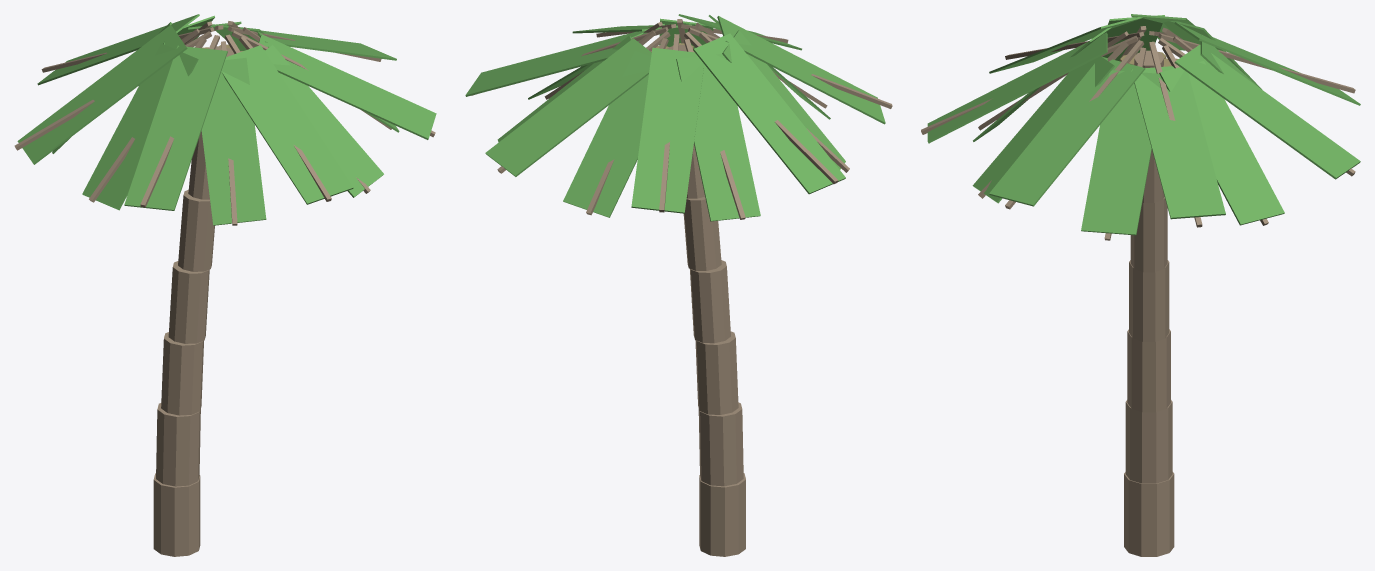
File: tree_coconut_palm.glb
3 renders of one model, left to right at view 1: azimuth 30°, elevation 25°; view 2: azimuth 150°, elevation 25°; view 3: azimuth 270°, elevation 25°, orthographic. The views are drawn at different scales.
Parts seen in each view (by area): view 1: Leaf_Blade_12, Leaf_Blade_0, Leaf_Blade_13, Leaf_Blade_10, Leaf_Blade_2, Leaf_Blade_11, Leaf_Blade_1, Trunk_Seg_0, Trunk_Seg_1, Trunk_Seg_2, Trunk_Seg_3, Trunk_Seg_4 (+6 smaller); view 2: Leaf_Blade_8, Leaf_Blade_10, Leaf_Blade_6, Leaf_Blade_9, Leaf_Blade_7, Trunk_Seg_0, Leaf_Blade_12, Trunk_Seg_1, Leaf_Blade_4, Trunk_Seg_2, Trunk_Seg_3, Trunk_Seg_4 (+6 smaller); view 3: Leaf_Blade_4, Leaf_Blade_3, Leaf_Blade_2, Leaf_Blade_5, Leaf_Blade_6, Trunk_Seg_0, Leaf_Blade_0, Trunk_Seg_1, Trunk_Seg_2, Leaf_Blade_1, Trunk_Seg_3, Trunk_Seg_4 (+9 smaller).
Part boxes in pixels (left/top/right/bottom): Leaf_Blade_12: left=124, top=45, right=227, bottom=210; Leaf_Blade_0: left=221, top=45, right=353, bottom=204; Leaf_Blade_13: left=196, top=57, right=266, bottom=225; Leaf_Blade_10: left=17, top=25, right=187, bottom=164; Leaf_Blade_2: left=258, top=34, right=436, bottom=139; Leaf_Blade_11: left=82, top=43, right=198, bottom=210; Leaf_Blade_1: left=265, top=45, right=383, bottom=197; Trunk_Seg_0: left=153, top=473, right=200, bottom=556; Trunk_Seg_1: left=156, top=403, right=200, bottom=486; Trunk_Seg_2: left=161, top=332, right=203, bottom=415; Trunk_Seg_3: left=168, top=261, right=209, bottom=343; Trunk_Seg_4: left=178, top=190, right=214, bottom=271; Leaf_Blade_8: left=631, top=47, right=704, bottom=213; Leaf_Blade_10: left=693, top=33, right=845, bottom=194; Leaf_Blade_6: left=485, top=38, right=651, bottom=176; Leaf_Blade_9: left=676, top=54, right=760, bottom=221; Leaf_Blade_7: left=563, top=51, right=651, bottom=217; Trunk_Seg_0: left=699, top=473, right=745, bottom=556; Leaf_Blade_12: left=717, top=16, right=885, bottom=124; Trunk_Seg_1: left=698, top=402, right=743, bottom=486; Leaf_Blade_4: left=465, top=28, right=649, bottom=96; Trunk_Seg_2: left=695, top=331, right=738, bottom=414; Trunk_Seg_3: left=690, top=260, right=730, bottom=343; Trunk_Seg_4: left=683, top=197, right=721, bottom=270; Leaf_Blade_4: left=1131, top=66, right=1225, bottom=219; Leaf_Blade_3: left=1081, top=70, right=1163, bottom=235; Leaf_Blade_2: left=989, top=56, right=1145, bottom=206; Leaf_Blade_5: left=1159, top=61, right=1284, bottom=225; Leaf_Blade_6: left=1174, top=44, right=1360, bottom=179; Trunk_Seg_0: left=1124, top=472, right=1174, bottom=556; Leaf_Blade_0: left=927, top=32, right=1107, bottom=143; Trunk_Seg_1: left=1125, top=400, right=1172, bottom=483; Trunk_Seg_2: left=1127, top=329, right=1170, bottom=412; Leaf_Blade_1: left=972, top=48, right=1114, bottom=203; Trunk_Seg_3: left=1129, top=260, right=1169, bottom=341; Trunk_Seg_4: left=1130, top=197, right=1167, bottom=272.
Size of the model in its own units: 6.77 by 8.88 by 6.62.
